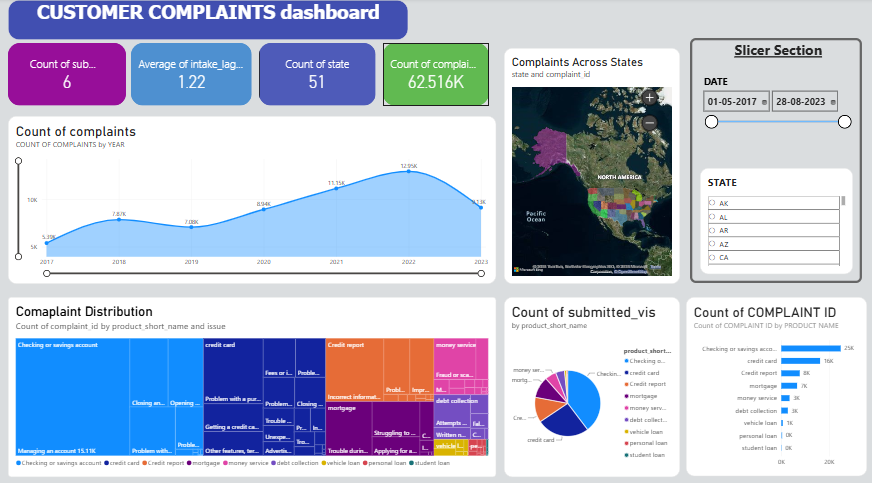

The page's visual inventory and layout, read from the dashboard file:
{"tool":"powerbi","page":{"name":"Page 1","canvas":[1920,1080],"ordinal":0},"visuals":[{"type":"barChart","title":"Count of COMPLAINT ID","fields":{"Category":["final_cleaned_file.product_short_name"],"Y":["CountNonNull(final_cleaned_file.complaint_id)"]},"box":[1512,659,398.9,394.5],"z":0},{"type":"stackedAreaChart","title":"Count of complaints","fields":{"Category":["final_cleaned_file.submitted_date.Variation.Date Hierarchy.Year","final_cleaned_file.submitted_date.Variation.Date Hierarchy.Quarter","final_cleaned_file.submitted_date.Variation.Date Hierarchy.Month","final_cleaned_file.submitted_date.Variation.Date Hierarchy.Day"],"Y":["CountNonNull(final_cleaned_file.complaint_id)"]},"box":[17.6,260.1,1075.6,370.3],"z":1},{"type":"cardVisual","fields":{"Data":["CountNonNull(final_cleaned_file.complaint_id)"]},"box":[844.2,99.2,233.6,138.9],"z":2},{"type":"cardVisual","fields":{"Data":["Count(final_cleaned_file.state)"]},"box":[570.9,99.2,257.9,138.9],"z":4},{"type":"cardVisual","fields":{"Data":["Avg(final_cleaned_file.intake_lag_days)"]},"box":[288.7,99.2,266.7,138.9],"z":5},{"type":"cardVisual","fields":{"Data":["Count(final_cleaned_file.submitted_vis)"]},"box":[17.6,99.2,260.1,138.9],"z":6},{"type":"treemap","title":"Comaplaint Distribution","fields":{"Details":["final_cleaned_file.issue"],"Group":["final_cleaned_file.product_short_name"],"Values":["CountNonNull(final_cleaned_file.complaint_id)"]},"box":[17.6,659,1075.6,396.7],"z":7},{"type":"pieChart","fields":{"Category":["final_cleaned_file.product_short_name"],"Y":["CountNonNull(final_cleaned_file.submitted_vis)"]},"box":[1110.9,659,387.9,396.7],"z":8},{"type":"filledMap","title":"Complaints Across States","fields":{"Category":["final_cleaned_file.state"],"Series":["final_cleaned_file.complaint_id"]},"box":[1110.9,110.2,387.9,520.2],"z":9},{"type":"textbox","title":"Slicer Section","box":[1520.8,88.2,379.1,540],"z":10},{"type":"listSlicer","title":"STATE","fields":{"Values":["final_cleaned_file.state"]},"box":[1542.9,374.7,337.2,233.6],"z":11},{"type":"slicer","fields":{"Values":["final_cleaned_file.submitted_date"]},"box":[1542.9,169.7,337.2,178.5],"z":12},{"type":"textbox","title":"CUSTOMER COMPLAINTS dashboard","box":[17.6,4.4,881.6,88.2],"z":13}]}

Visuals, with their boxes in screenshot pixels (x1, y1, x2, y2), scaled from the page's 1920x1080 canvas onto the 872x483 screenshot:
"Count of COMPLAINT ID" barChart: box(687, 295, 868, 471)
"Count of complaints" stackedAreaChart: box(8, 116, 496, 282)
cardVisual - CountNonNull(final_cleaned_file.complaint_id): box(383, 44, 490, 106)
cardVisual - Count(final_cleaned_file.state): box(259, 44, 376, 106)
cardVisual - Avg(final_cleaned_file.intake_lag_days): box(131, 44, 252, 106)
cardVisual - Count(final_cleaned_file.submitted_vis): box(8, 44, 126, 106)
"Comaplaint Distribution" treemap: box(8, 295, 496, 472)
pieChart - final_cleaned_file.product_short_name x CountNonNull(final_cleaned_file.submitted_vis): box(505, 295, 681, 472)
"Complaints Across States" filledMap: box(505, 49, 681, 282)
"Slicer Section" textbox: box(691, 39, 863, 281)
"STATE" listSlicer: box(701, 168, 854, 272)
slicer - final_cleaned_file.submitted_date: box(701, 76, 854, 156)
"CUSTOMER COMPLAINTS dashboard" textbox: box(8, 2, 408, 41)
